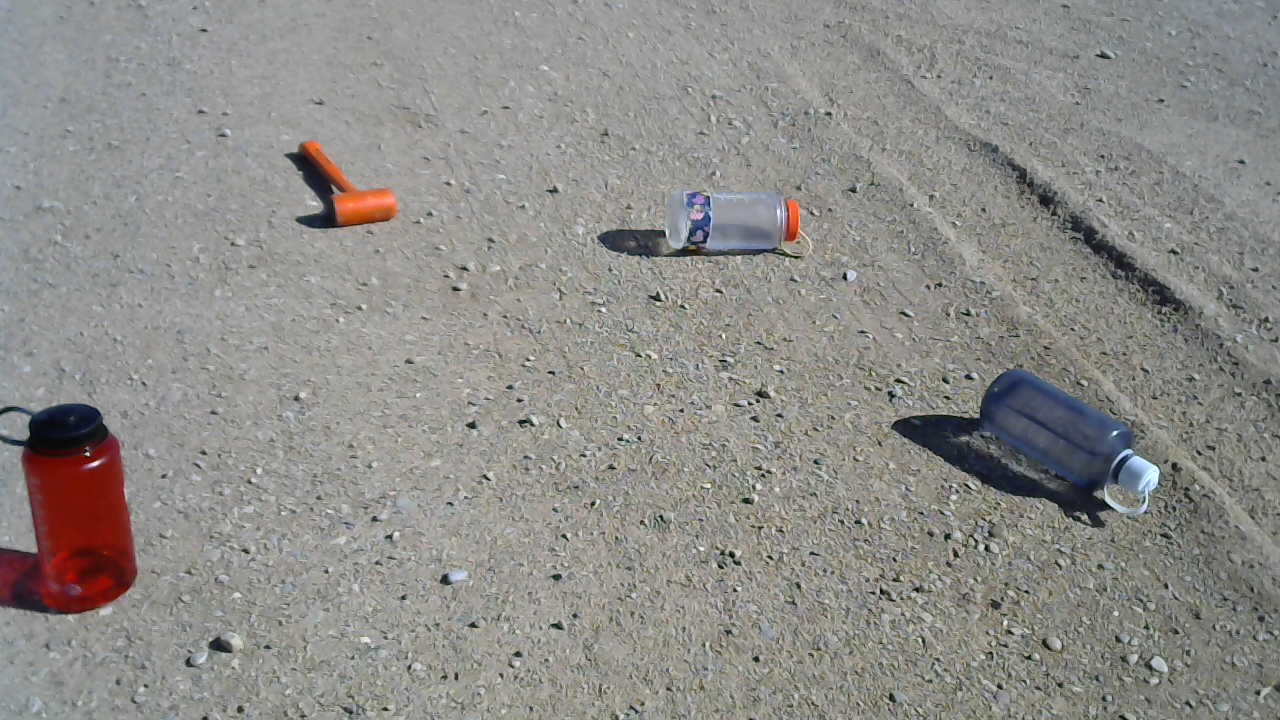bottle: (0, 398, 151, 614), (973, 365, 1164, 520), (663, 187, 808, 263)
hammer: (295, 137, 405, 236)
